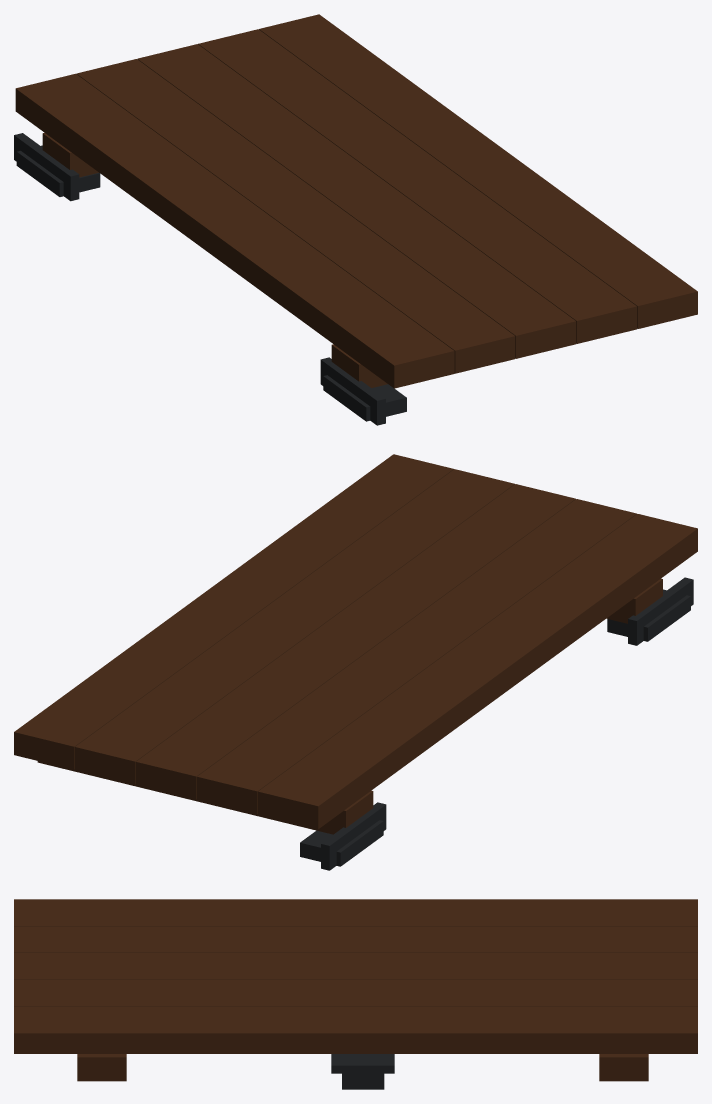
Rendered from shutter_LOD0.obj.
3 renders of one model, top to bottom at view 1: azimuth 30°, elevation 25°; view 2: azimuth 150°, elevation 25°; view 3: azimuth 270°, elevation 25°, orthographic. The views are drawn at different scales.
Visible parts, largest first — view 1: oak_plank_0, oak_plank_1, oak_plank_2, oak_plank_3, oak_plank_4, hinge_leaf_1.81, hinge_pin_0.24, hinge_pin_1.81, hinge_leaf_0.24, crossbar_0.28, crossbar_1.76; view 2: oak_plank_0, oak_plank_2, oak_plank_4, oak_plank_3, oak_plank_1, crossbar_0.28, hinge_leaf_0.24, hinge_pin_0.24, hinge_pin_1.81, hinge_leaf_1.81, crossbar_1.76; view 3: oak_plank_4, oak_plank_0, oak_plank_1, oak_plank_2, oak_plank_3, crossbar_0.28, crossbar_1.76, handle_backplate, handle_grip.
Boxes of the visible parts, x1,y1,x2,y2 form: oak_plank_0: (15, 73, 454, 388); oak_plank_1: (76, 59, 515, 373); oak_plank_2: (137, 44, 576, 358); oak_plank_3: (198, 29, 636, 343); oak_plank_4: (259, 14, 697, 328); hinge_leaf_1.81: (323, 375, 406, 421); hinge_pin_0.24: (14, 133, 79, 201); hinge_pin_1.81: (320, 357, 385, 425); hinge_leaf_0.24: (16, 145, 100, 196); crossbar_0.28: (42, 132, 98, 177); crossbar_1.76: (331, 344, 387, 387); oak_plank_0: (258, 514, 697, 829); oak_plank_2: (136, 484, 575, 799); oak_plank_4: (14, 454, 453, 769); oak_plank_3: (75, 469, 514, 784); oak_plank_1: (197, 499, 636, 814); crossbar_0.28: (37, 761, 373, 834); hinge_leaf_0.24: (300, 820, 383, 866); hinge_pin_0.24: (321, 802, 386, 870); hinge_pin_1.81: (628, 577, 693, 645); hinge_leaf_1.81: (607, 589, 690, 641); crossbar_1.76: (606, 578, 662, 623); oak_plank_4: (14, 1006, 697, 1053); oak_plank_0: (14, 899, 697, 926); oak_plank_1: (14, 926, 697, 952); oak_plank_2: (14, 953, 697, 979); oak_plank_3: (14, 980, 697, 1006); crossbar_0.28: (599, 1054, 648, 1081); crossbar_1.76: (77, 1054, 126, 1081); handle_backplate: (331, 1054, 394, 1073); handle_grip: (342, 1073, 384, 1089).
Size of the model in its own units: 0.94 by 0.2425 by 1.94.
